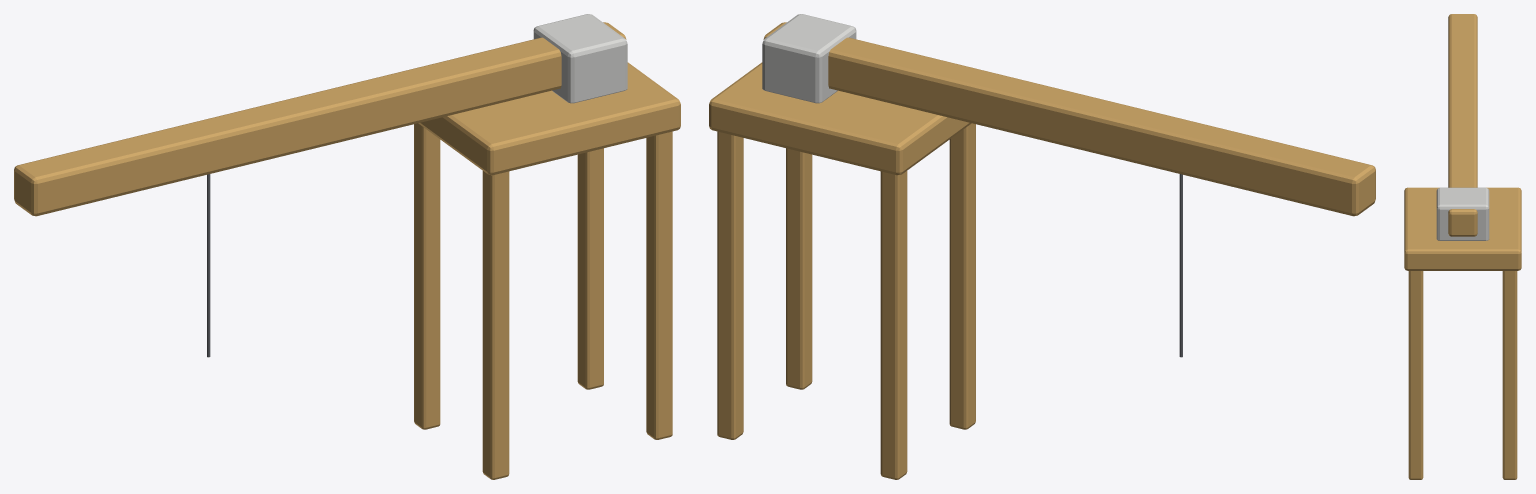
Rendered from dock_crane.glb.
3 views of the same model, side by side, from view 1: azimuth 30°, elevation 25°; view 2: azimuth 150°, elevation 25°; view 3: azimuth 270°, elevation 25° (orthographic). The views are drawn at different scales.
Visible parts, largest first — view 1: dock_crane_Palette; view 2: dock_crane_Palette; view 3: dock_crane_Palette.
Boxes of the visible parts, x1,y1,x2,y2 form: dock_crane_Palette: (14, 14, 680, 479); dock_crane_Palette: (709, 14, 1375, 479); dock_crane_Palette: (1404, 14, 1521, 479).
Size of the model in its own units: 16.6 by 10 by 4.
